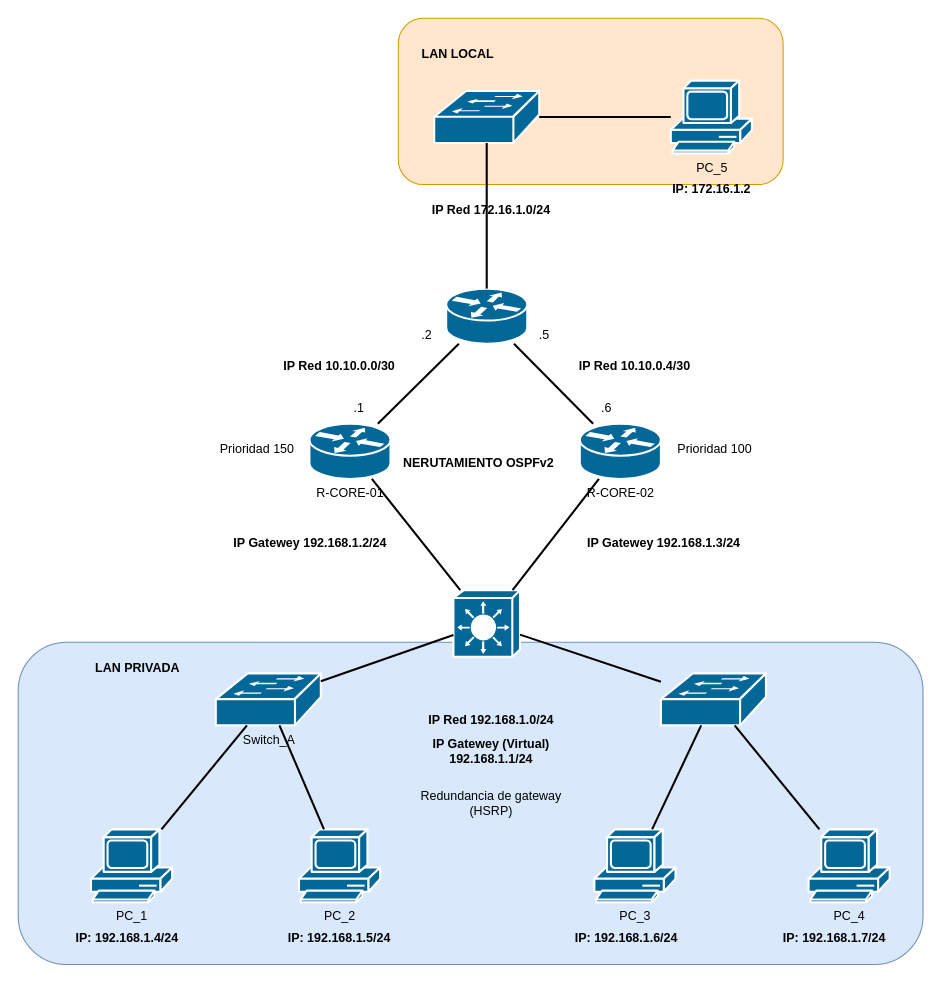
Some shapes in this 941 by 983 pixel diagram are drawn without their labels. Each missing label, with the box of its shape:
R-EDGE-ISP: (445, 287, 528, 344)
Switch Core: (452, 589, 521, 657)
Switch_B: (659, 672, 766, 726)
Switch_C: (433, 89, 540, 144)
